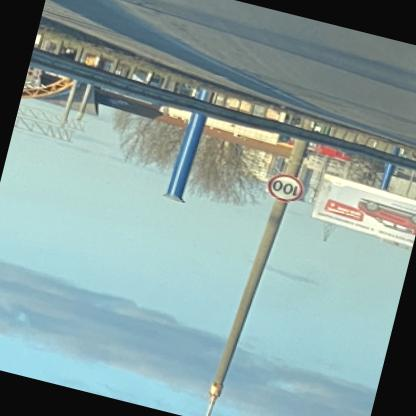speedlimit: (266, 172, 307, 208)
